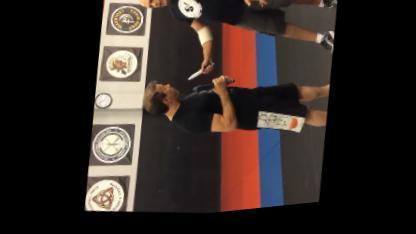knife: (182, 63, 214, 88)
